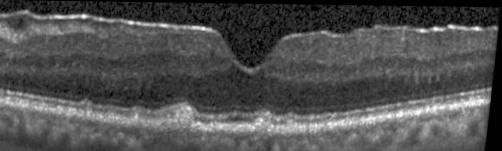intraretinal_cyst: (8, 14, 32, 33)
retinal_drusen: (165, 107, 195, 130), (253, 118, 275, 131), (76, 105, 94, 119), (131, 111, 145, 126), (285, 116, 298, 132)
